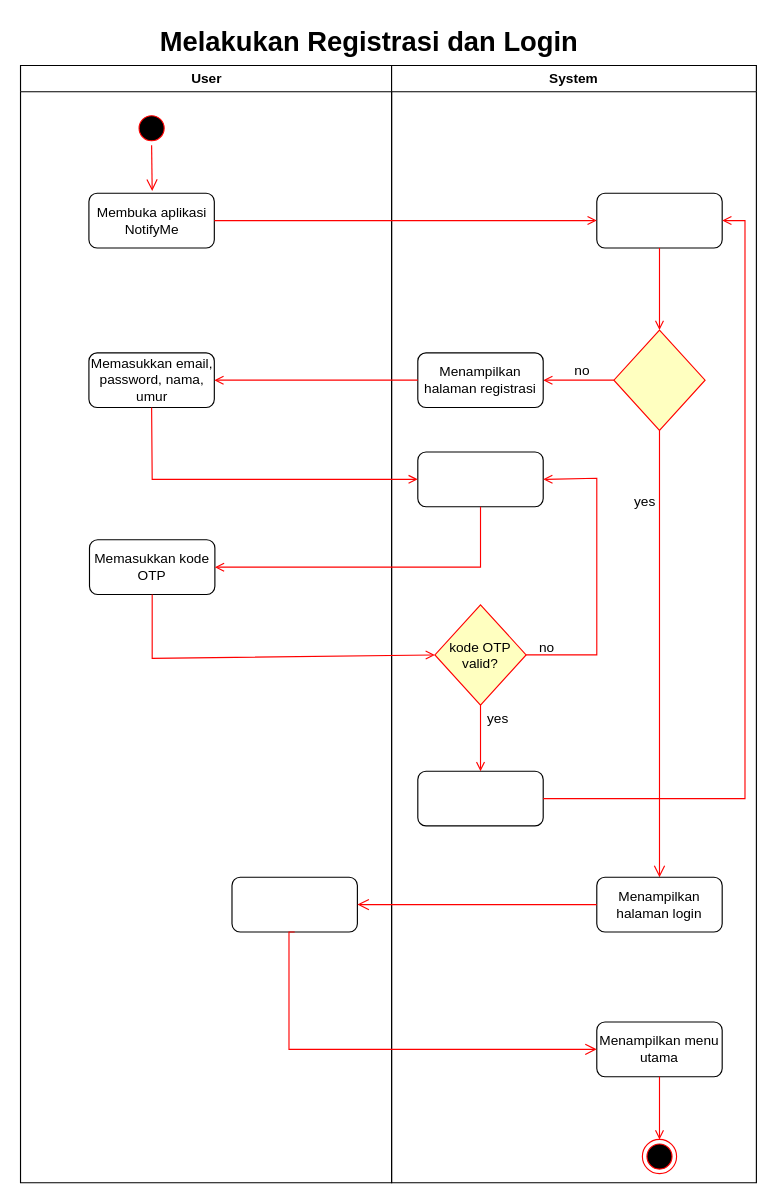
The diagram is 776 pixels wide and 1203 high, and some of its shapes have lost their labels. Each missing label, with the centre of its shape:
Memasukkan email dan password: the point at 294,904
Memiliki akun atau tidak?: the point at 659,379
Menampilkan akun ada sudah terbentuk: the point at 480,798
Menampilkan halaman kode OTP: the point at 480,479
Menampilkan halaman registrasi dan login: the point at 659,220
